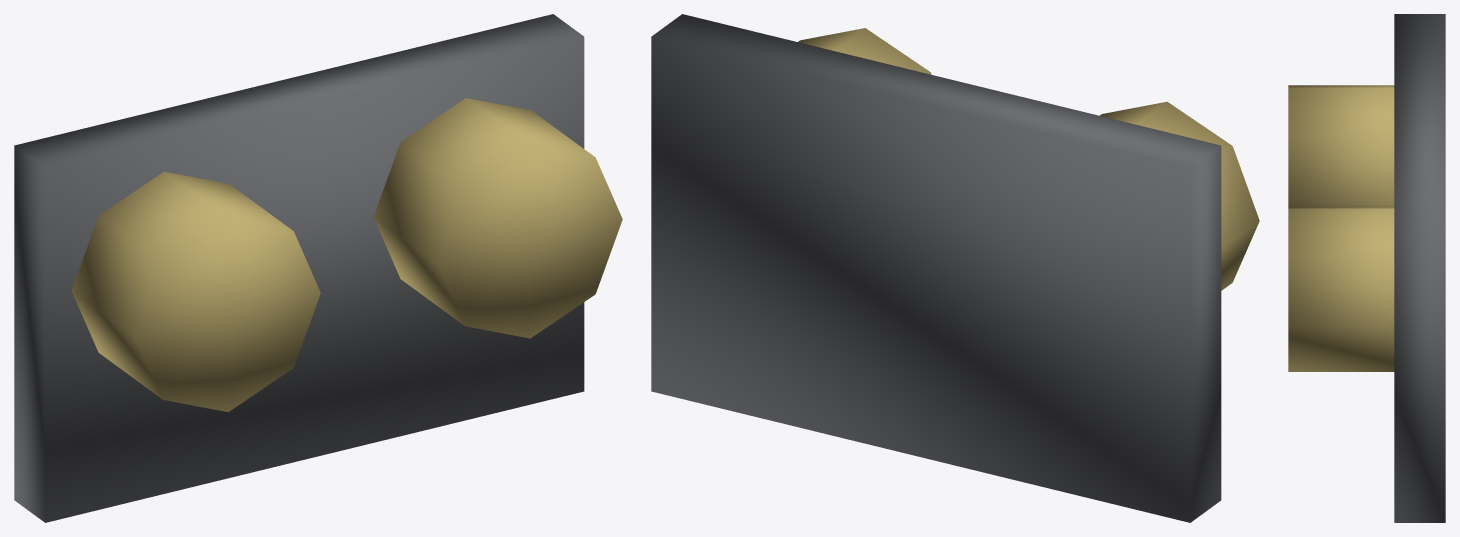
The model's file is emergency_light_pair_06.glb.
The picture shows the model from 3 angles, left to right: view 1: azimuth 30°, elevation 25°; view 2: azimuth 150°, elevation 25°; view 3: azimuth 270°, elevation 25°; orthographic projection. The views are drawn at different scales.
Parts seen in each view (by area): view 1: world; view 2: world; view 3: world.
Boxes of the visible parts, x1=… form: world: x1=14, y1=14, x2=622, y2=522; world: x1=651, y1=14, x2=1259, y2=522; world: x1=1288, y1=14, x2=1445, y2=522.
Size of the model in its own units: 0.35 by 0.22 by 0.1075.
